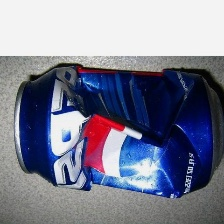can: (10, 63, 224, 201)
